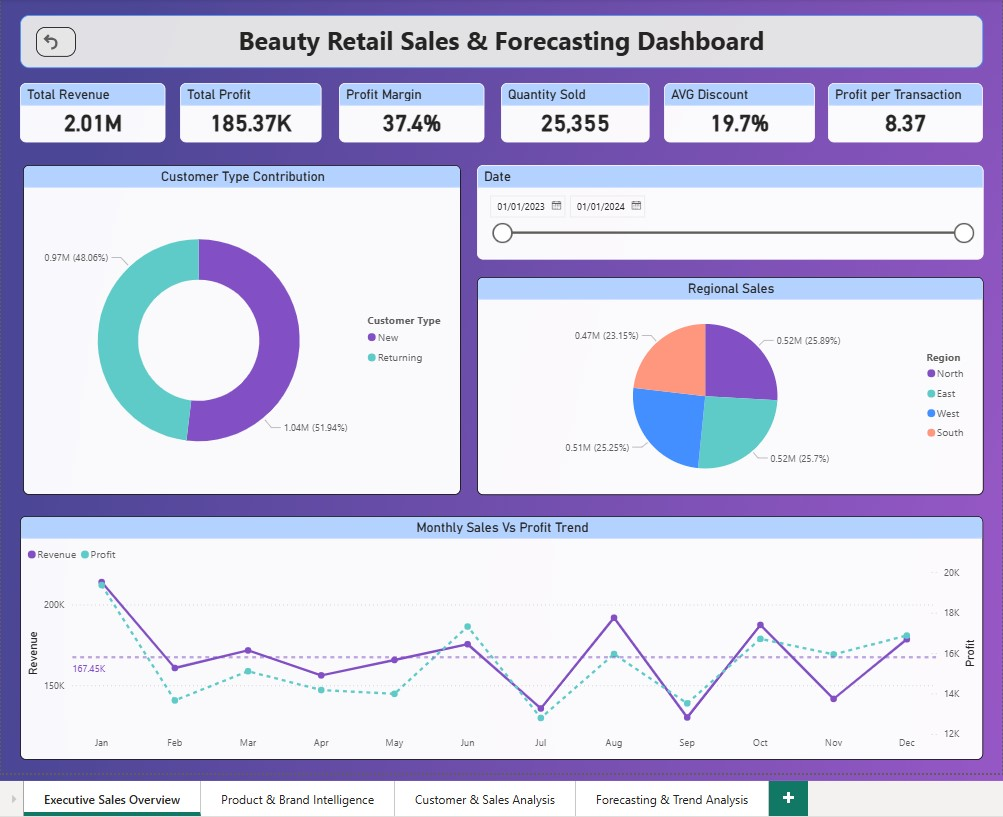

This screenshot's page, from the dashboard's own definition file:
{"tool":"powerbi","page":{"name":"Executive Sales Overview","canvas":[1280,990],"ordinal":0},"visuals":[{"type":"textbox","box":[24.8,20.9,1231.8,67.8],"z":0},{"type":"kpi","title":"Total Revenue","fields":{"Indicator":["Retail_Fact_Table.TOTAL_Revenue","Retail_Fact_Table.Running_Revenue"],"TrendLine":["Date_Table.Date"]},"box":[24.8,106.9,186.4,75.6],"z":1000},{"type":"kpi","title":"Total Profit","fields":{"Indicator":["Retail_Fact_Table.TOTAL_Profit","Retail_Fact_Table.Running_Profit"],"TrendLine":["Date_Table.Date"]},"box":[229.4,106.9,181.2,75.6],"z":2000},{"type":"kpi","title":"Quantity Sold","fields":{"TrendLine":["Date_Table.Date"],"Indicator":["Retail_Fact_Table.Running_Quantity"]},"box":[640,106.9,190.3,75.6],"z":3000},{"type":"kpi","title":"AVG Discount","fields":{"Indicator":["Retail_Fact_Table.AVG_Discount"],"TrendLine":["Date_Table.Date"]},"box":[848.6,106.9,192.9,75.6],"z":4000},{"type":"lineChart","title":"Monthly Sales Vs Profit Trend","fields":{"Y":["Retail_Fact_Table.TOTAL_Revenue"],"Y2":["Retail_Fact_Table.TOTAL_Profit"],"Category":["Date_Table.Month_Name"]},"box":[24.3,661.3,1231.7,312.1],"z":5000},{"type":"pieChart","title":"Regional Sales","fields":{"Category":["Retail_Fact_Table.Region"],"Y":["Retail_Fact_Table.TOTAL_Revenue"]},"box":[608.7,355.8,647.8,278.9],"z":6000},{"type":"donutChart","title":"Customer Type Contribution","fields":{"Y":["Retail_Fact_Table.TOTAL_Revenue"],"Category":["Retail_Fact_Table.Customer_Type"]},"box":[28.7,212.5,560.5,422.3],"z":7000},{"type":"slicer","title":"Date","fields":{"Values":["Date_Table.Date"]},"box":[608.7,212.5,647.8,121.2],"z":8000},{"type":"kpi","title":"Profit Margin","fields":{"Indicator":["Retail_Fact_Table.PCT_Profit_Margin"],"TrendLine":["Date_Table.Date"]},"box":[432.7,106.9,186.4,75.6],"z":9000},{"type":"kpi","title":"Profit per Transaction","fields":{"Indicator":["Retail_Fact_Table.TOTAL_Profit","Retail_Fact_Table.Profit_Transaction"],"TrendLine":["Date_Table.Date"]},"box":[1058.4,106.9,198.1,75.6],"z":10000},{"type":"actionButton","box":[44.3,35.2,50.8,37.8],"z":10001}]}

Visuals, with their boxes in screenshot pixels (x1, y1, x2, y2):
textbox: 22/16/974/69
"Total Revenue" kpi: 22/83/166/141
"Total Profit" kpi: 180/83/320/141
"Quantity Sold" kpi: 497/83/644/141
"AVG Discount" kpi: 658/83/807/141
"Monthly Sales Vs Profit Trend" lineChart: 21/511/973/752
"Regional Sales" pieChart: 473/275/974/490
"Customer Type Contribution" donutChart: 25/164/458/491
"Date" slicer: 473/164/974/258
"Profit Margin" kpi: 337/83/481/141
"Profit per Transaction" kpi: 820/83/974/141
actionButton: 37/27/76/56
